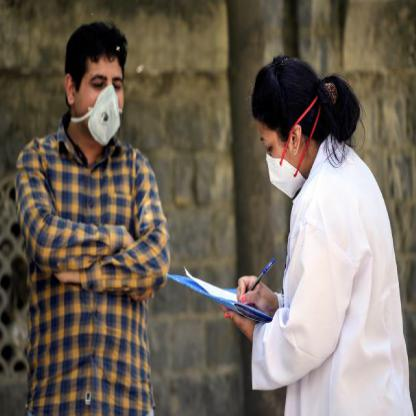Wearing_Mask: (253, 96, 326, 195), (72, 47, 132, 164)
